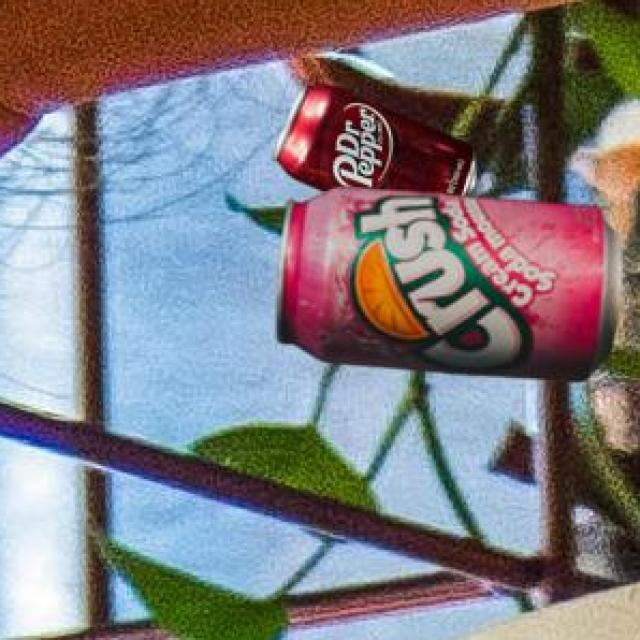logam: (280, 190, 624, 386), (276, 87, 480, 201)
